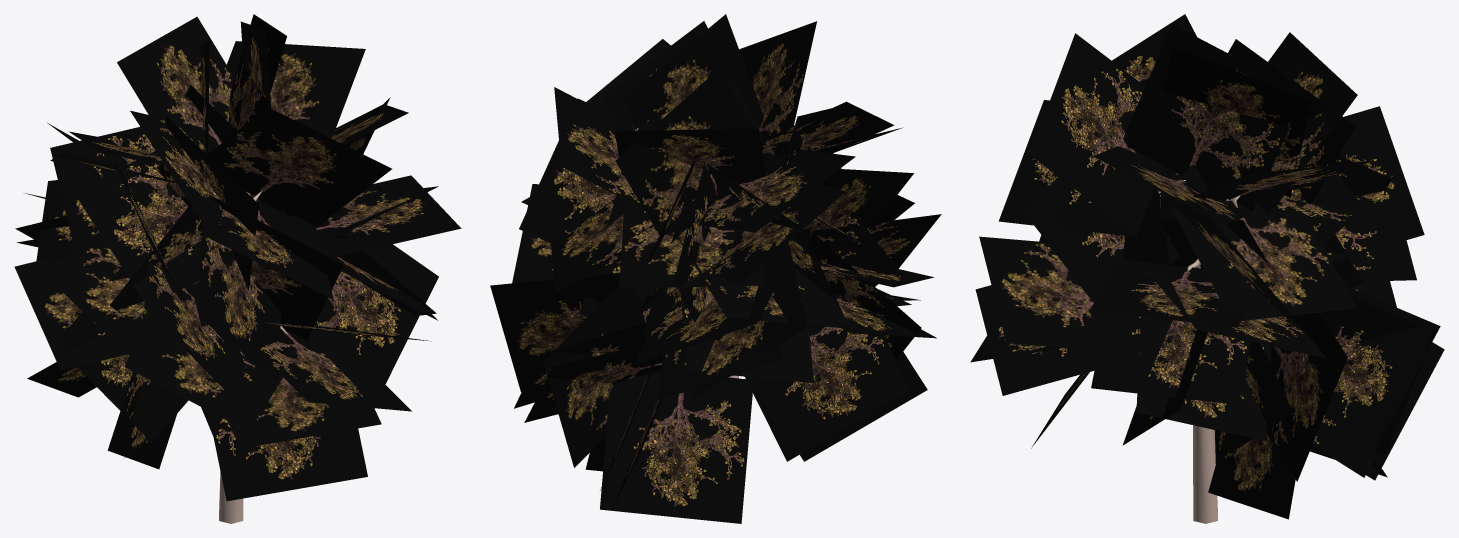
Rendered from tree43.glb.
3 views of the same model, side by side, from view 1: azimuth 30°, elevation 25°; view 2: azimuth 150°, elevation 25°; view 3: azimuth 270°, elevation 25° (orthographic). The views are drawn at different scales.
Size of the model in its own units: 6.25 by 7.39 by 6.32.
2 materials, 1 textured.
